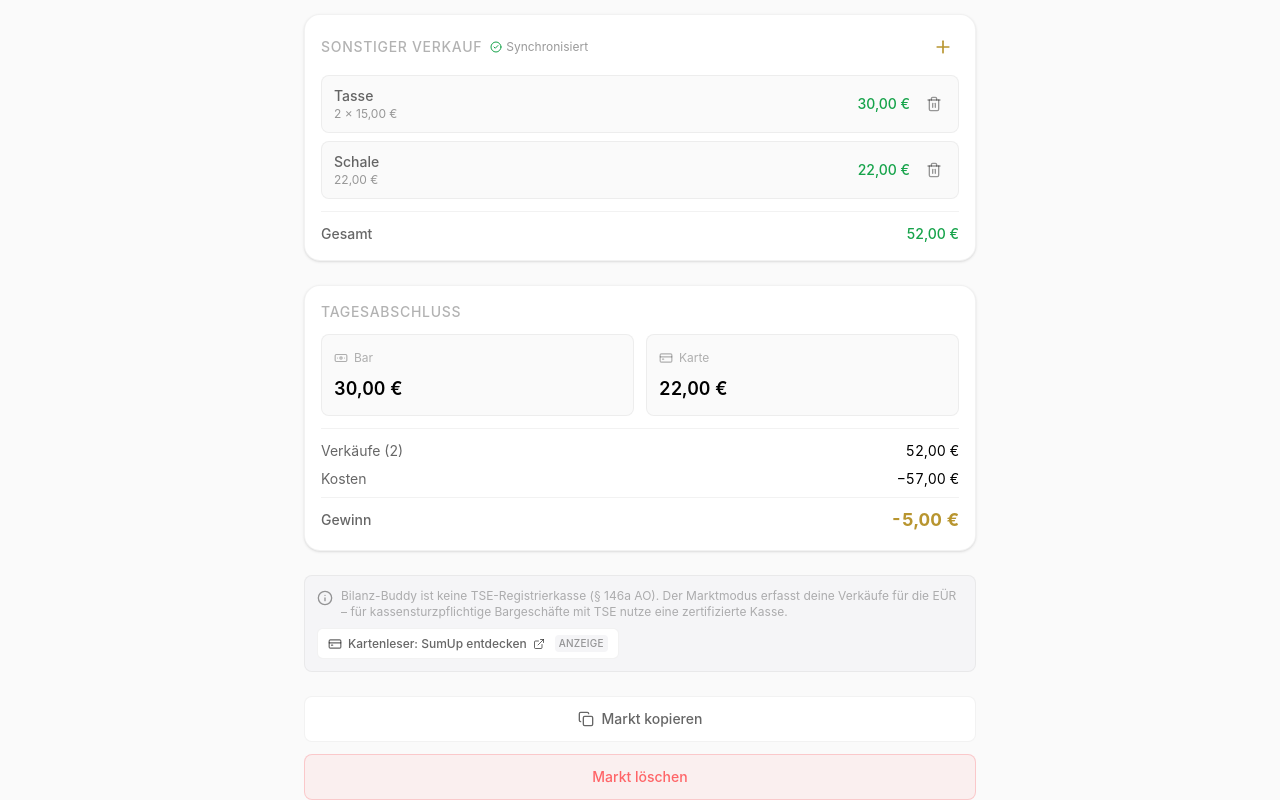
Test case: Marktdetail — Rückmeldung nach dem Seitenwechsel › meldet das Löschen auf dem Weg zurück zur Liste
(page scrolled)
Click the button "Markt löschen".
click(640, 777)  # box [304,754,976,799]
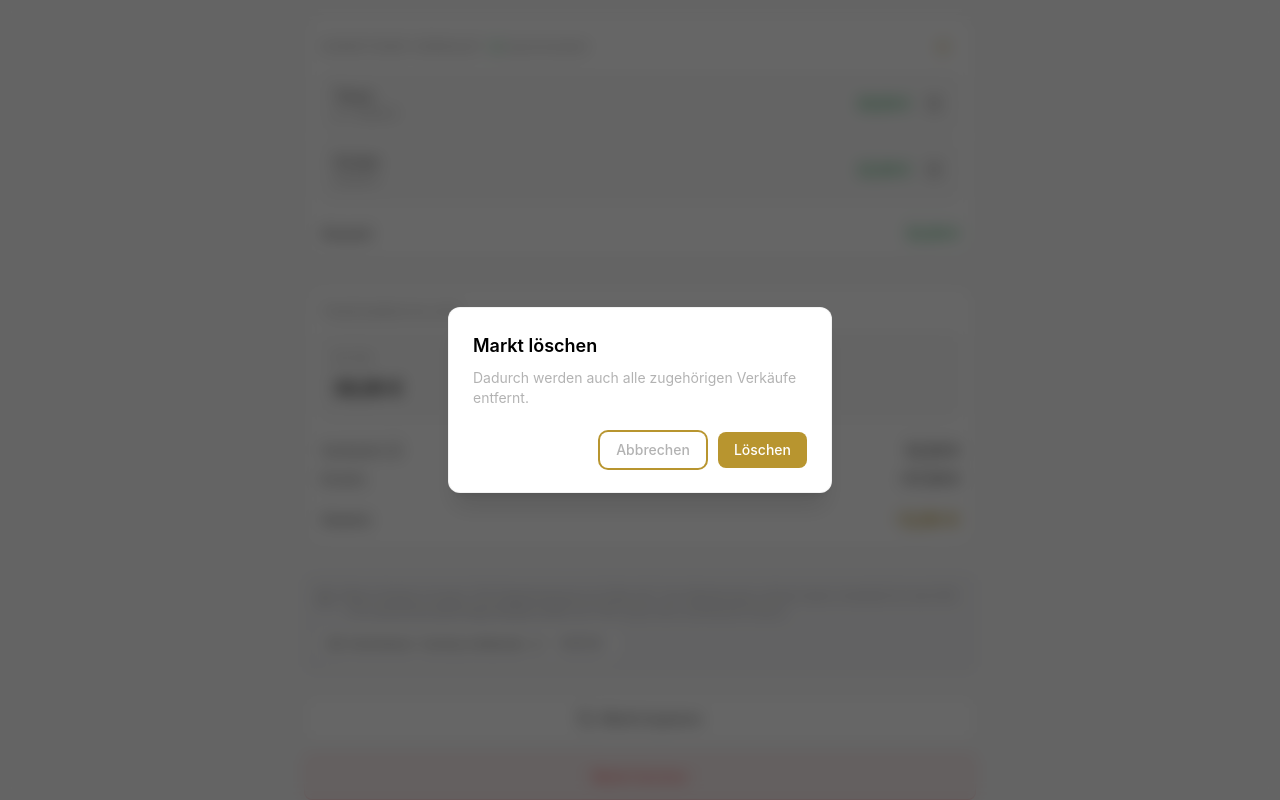
Click the button "Löschen".
click(762, 450)  # box [718,432,807,468]
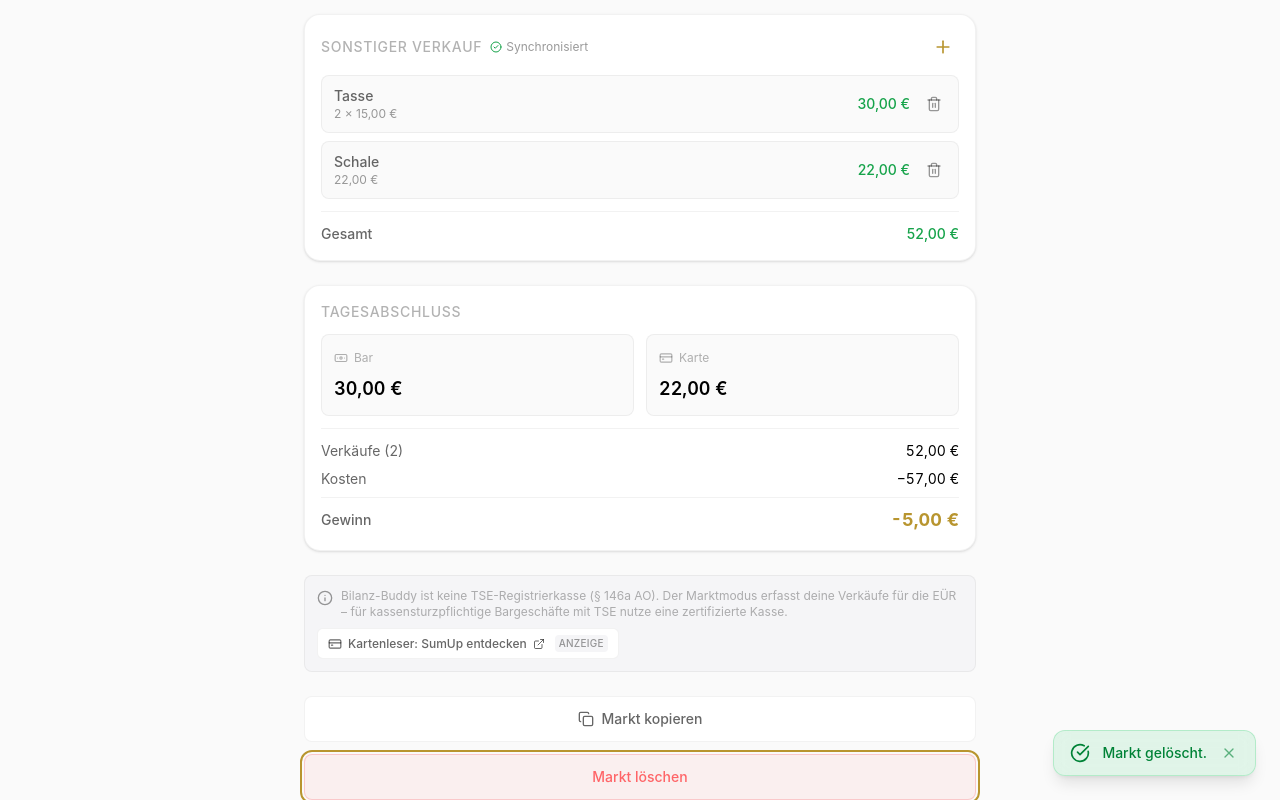
Check: the text "Markt gelöscht." is shown, box [1102,743,1207,763]
